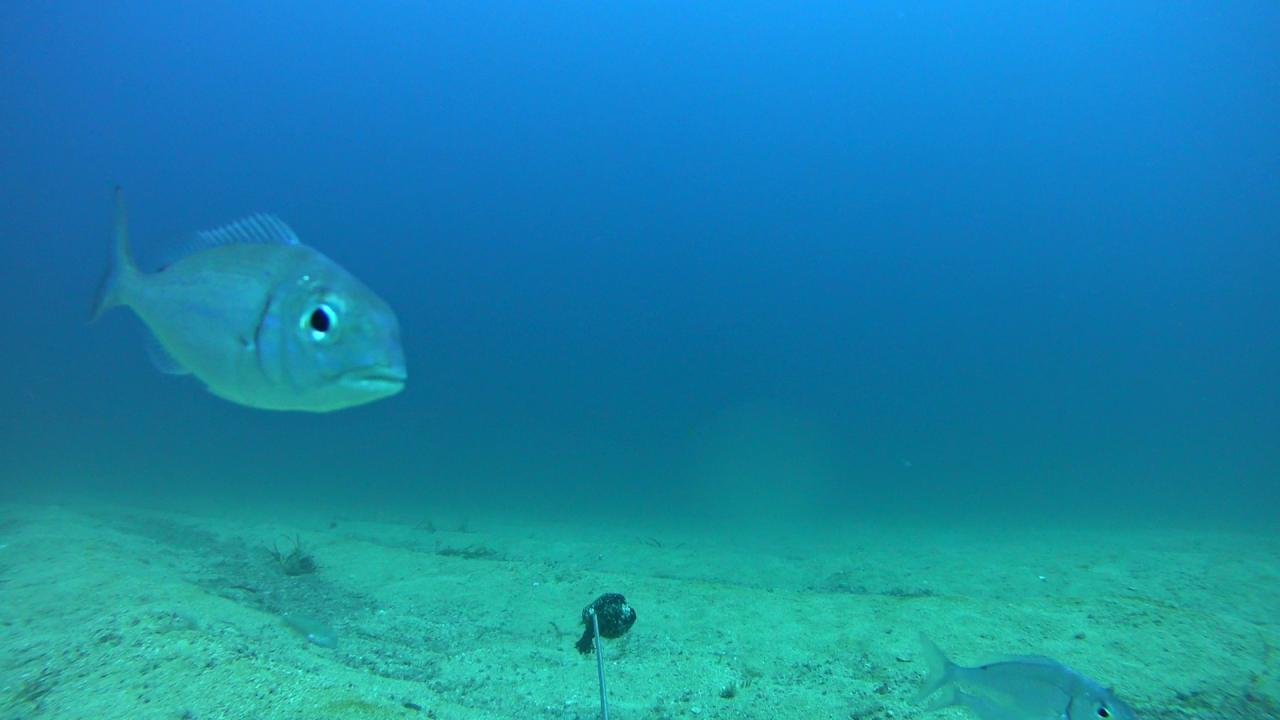pagellus: (89, 184, 407, 414)
